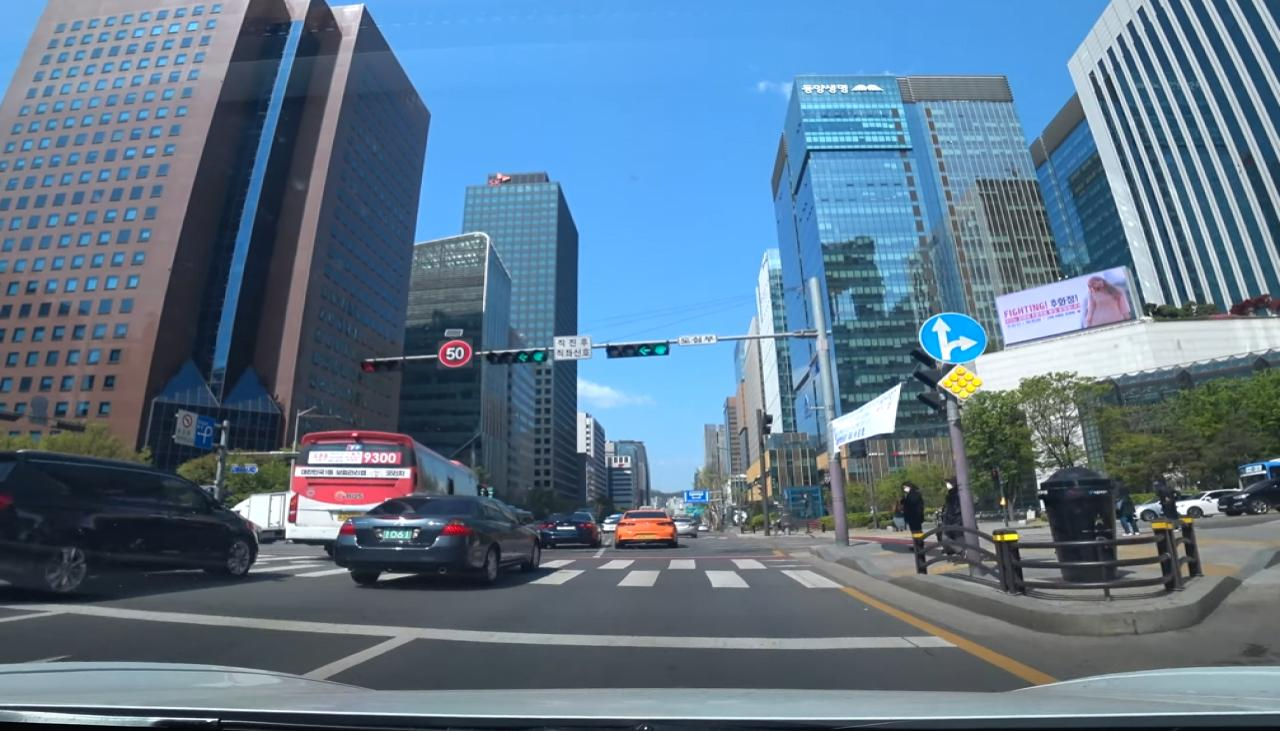Green Light: (652, 343, 668, 355), (531, 350, 545, 361)
Left turn: (517, 350, 530, 362), (638, 346, 652, 356)
